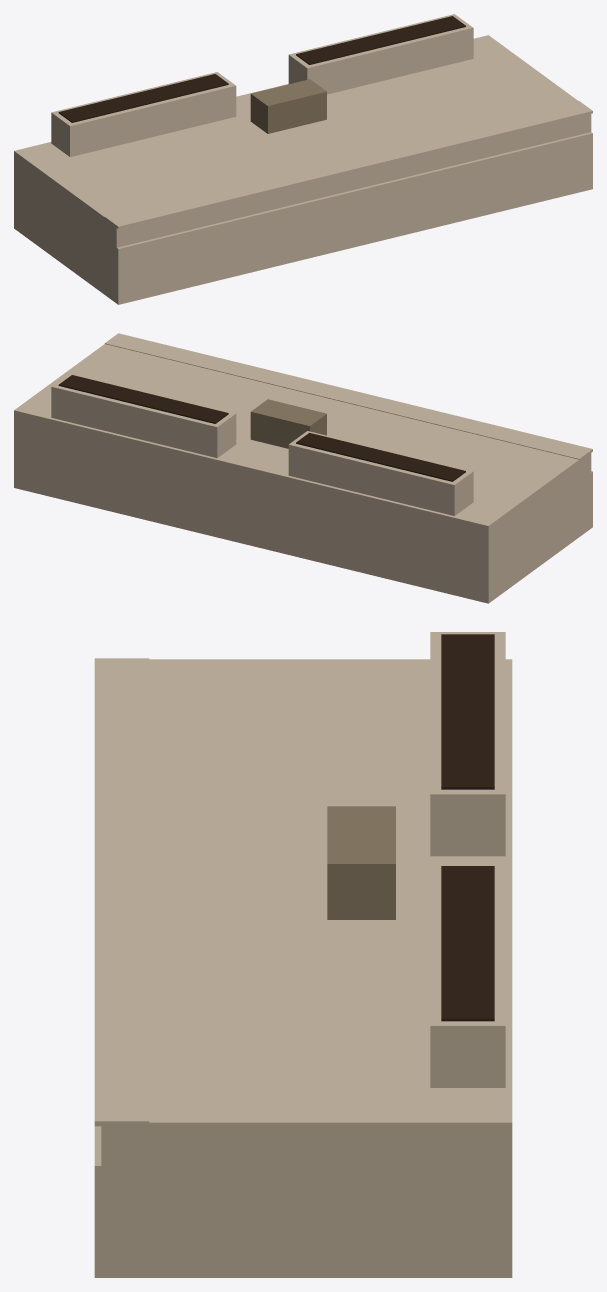
The model's file is city_rail_platform_8.glb.
3 views of the same model, one above another, from view 1: azimuth 30°, elevation 25°; view 2: azimuth 150°, elevation 25°; view 3: azimuth 270°, elevation 25° (orthographic). The views are drawn at different scales.
Visible parts, largest first — view 1: CityRailPlatform8_Deck, CityRailPlatform8_Fascia, CityRailPlatform8_Edge, CityRailPlatform8_Planter0, CityRailPlatform8_Planter1, CityRailPlatform8_Bench, CityRailPlatform8_PlanterSoil1, CityRailPlatform8_PlanterSoil0; view 2: CityRailPlatform8_Deck, CityRailPlatform8_Fascia, CityRailPlatform8_Edge, CityRailPlatform8_Planter0, CityRailPlatform8_Planter1, CityRailPlatform8_Bench, CityRailPlatform8_PlanterSoil1, CityRailPlatform8_PlanterSoil0; view 3: CityRailPlatform8_Deck, CityRailPlatform8_Fascia, CityRailPlatform8_Edge, CityRailPlatform8_Planter0, CityRailPlatform8_Planter1, CityRailPlatform8_PlanterSoil0, CityRailPlatform8_PlanterSoil1, CityRailPlatform8_Bench.
Boxes of the visible parts, <box> form: CityRailPlatform8_Deck: <box>14,35,591,247</box>; CityRailPlatform8_Fascia: <box>14,132,592,304</box>; CityRailPlatform8_Edge: <box>104,101,592,228</box>; CityRailPlatform8_Planter0: <box>51,72,236,157</box>; CityRailPlatform8_Planter1: <box>288,14,473,94</box>; CityRailPlatform8_Bench: <box>250,79,326,133</box>; CityRailPlatform8_PlanterSoil1: <box>296,16,465,64</box>; CityRailPlatform8_PlanterSoil0: <box>58,74,228,122</box>; CityRailPlatform8_Deck: <box>14,344,591,547</box>; CityRailPlatform8_Fascia: <box>14,432,592,603</box>; CityRailPlatform8_Edge: <box>104,333,592,459</box>; CityRailPlatform8_Planter0: <box>288,431,473,515</box>; CityRailPlatform8_Planter1: <box>51,373,236,458</box>; CityRailPlatform8_Bench: <box>250,399,326,448</box>; CityRailPlatform8_PlanterSoil1: <box>58,375,228,423</box>; CityRailPlatform8_PlanterSoil0: <box>296,433,465,481</box>; CityRailPlatform8_Deck: <box>101,659,512,1165</box>; CityRailPlatform8_Fascia: <box>94,1126,512,1277</box>; CityRailPlatform8_Edge: <box>94,658,149,1126</box>; CityRailPlatform8_Planter0: <box>430,632,505,856</box>; CityRailPlatform8_Planter1: <box>430,863,505,1087</box>; CityRailPlatform8_PlanterSoil0: <box>441,634,494,789</box>; CityRailPlatform8_PlanterSoil1: <box>441,866,494,1021</box>; CityRailPlatform8_Bench: <box>327,806,395,919</box>.
Size of the model in its own units: 8 by 1.77 by 3.05.
